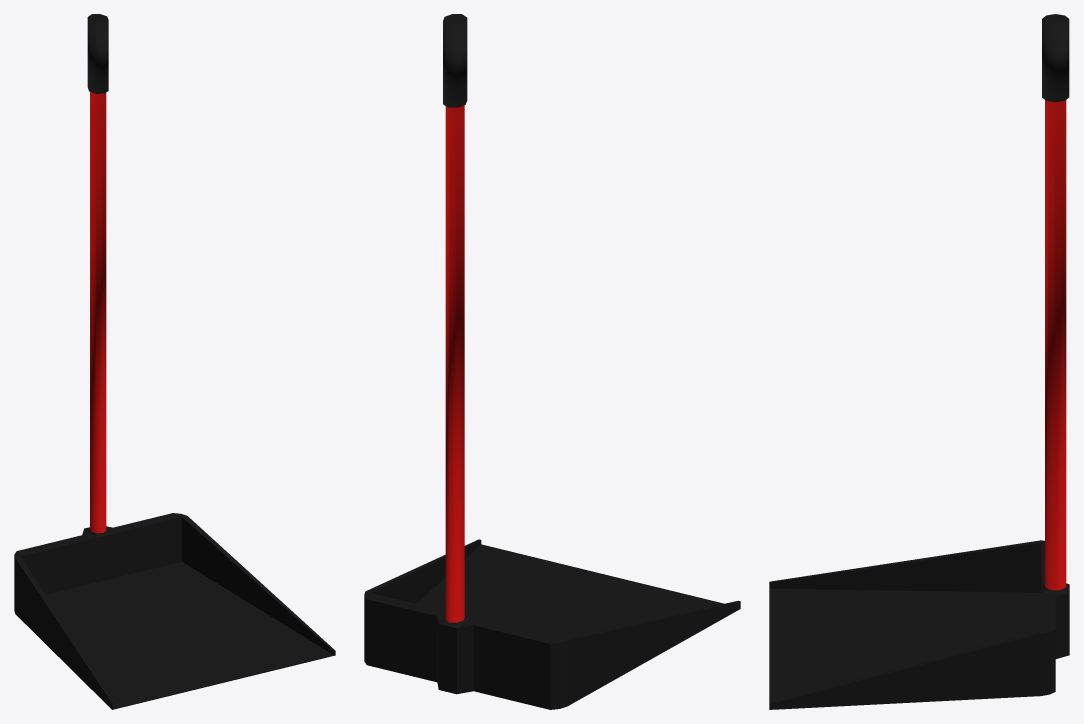
File: Dustpan.fbx
The picture shows the model from 3 angles, left to right: view 1: azimuth 30°, elevation 25°; view 2: azimuth 150°, elevation 25°; view 3: azimuth 270°, elevation 25°; orthographic projection. The views are drawn at different scales.
Visible parts, largest first — view 1: Cube; view 2: Cube; view 3: Cube.
Boxes of the visible parts, box(x1,y1,x2,y2) form: Cube: box(14, 14, 335, 709); Cube: box(364, 14, 740, 709); Cube: box(769, 14, 1069, 709).
Size of the model in its own units: 112 by 272 by 117.
